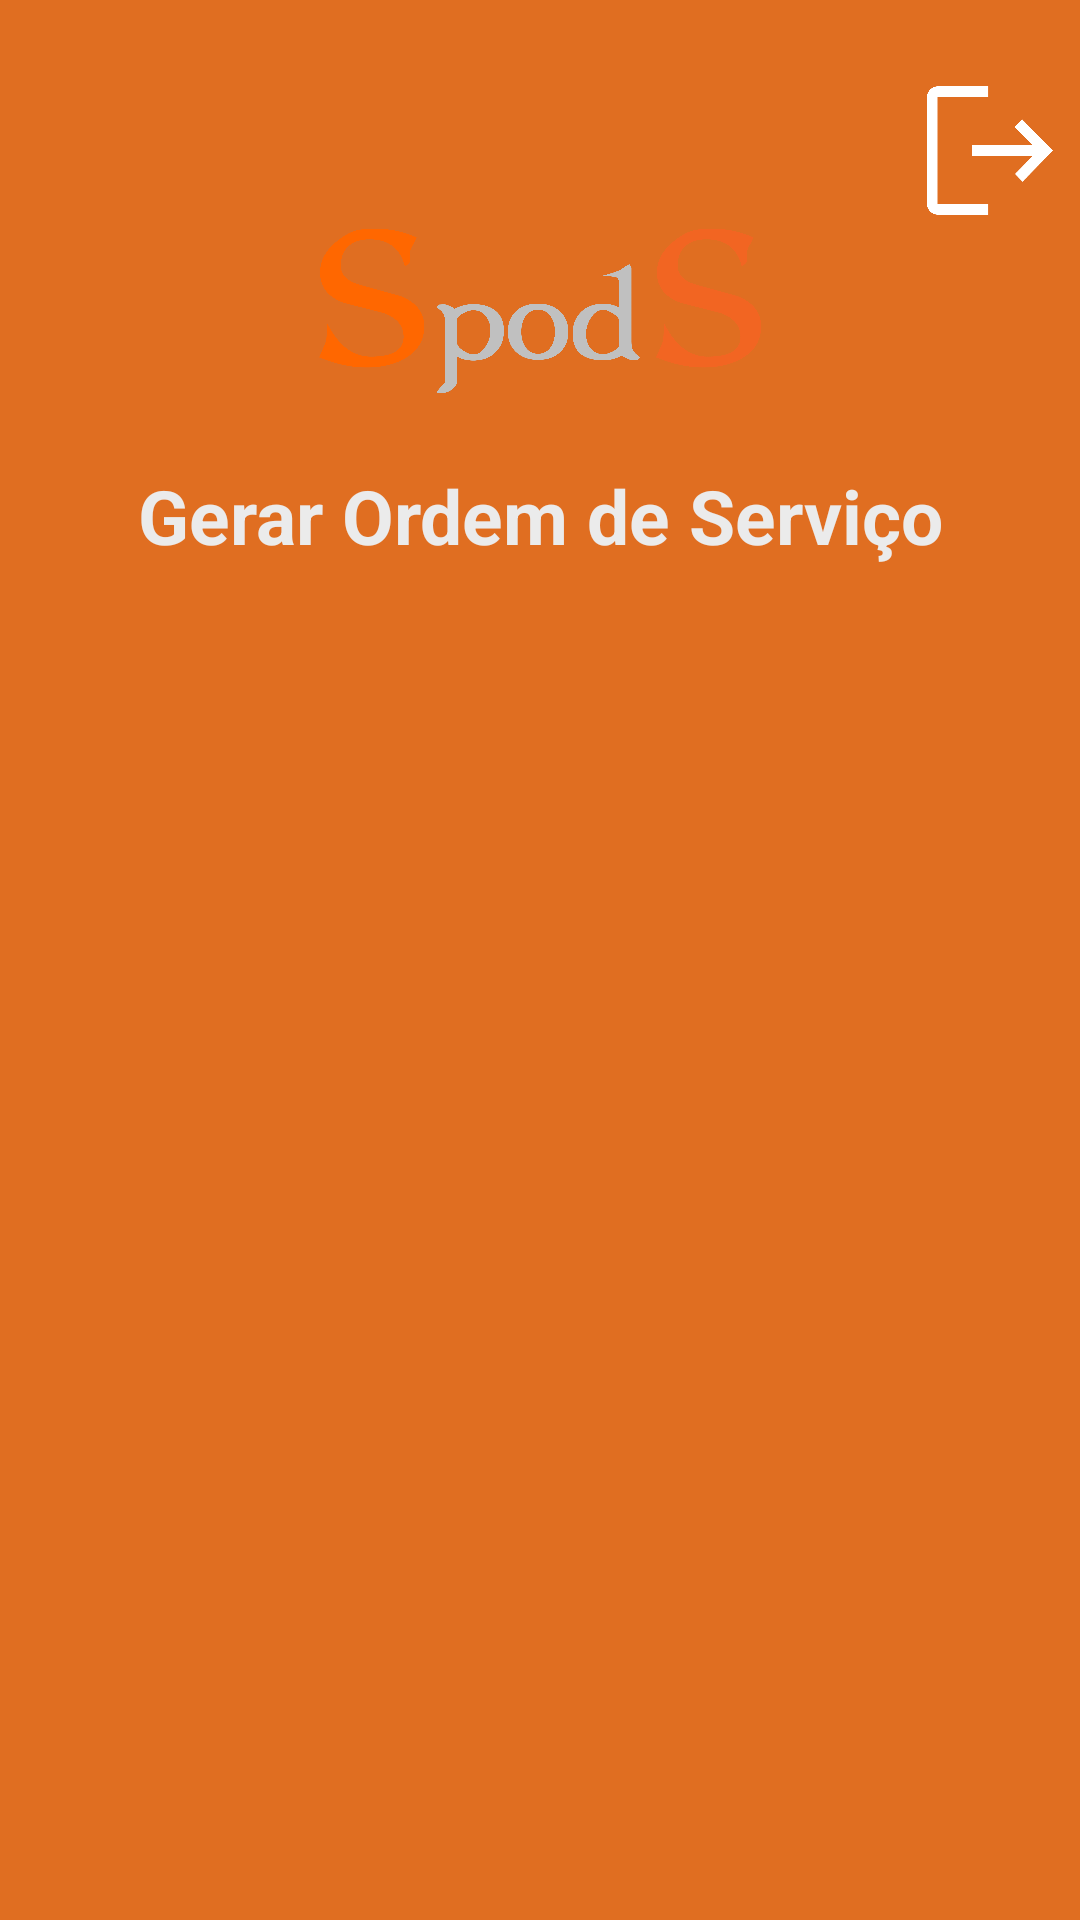

Icons on this 1080w x 1920h Android screen, each with its box as [left=x1, top=y1, right=x2, bottom=y2]:
exit: [left=927, top=86, right=1053, bottom=215]
